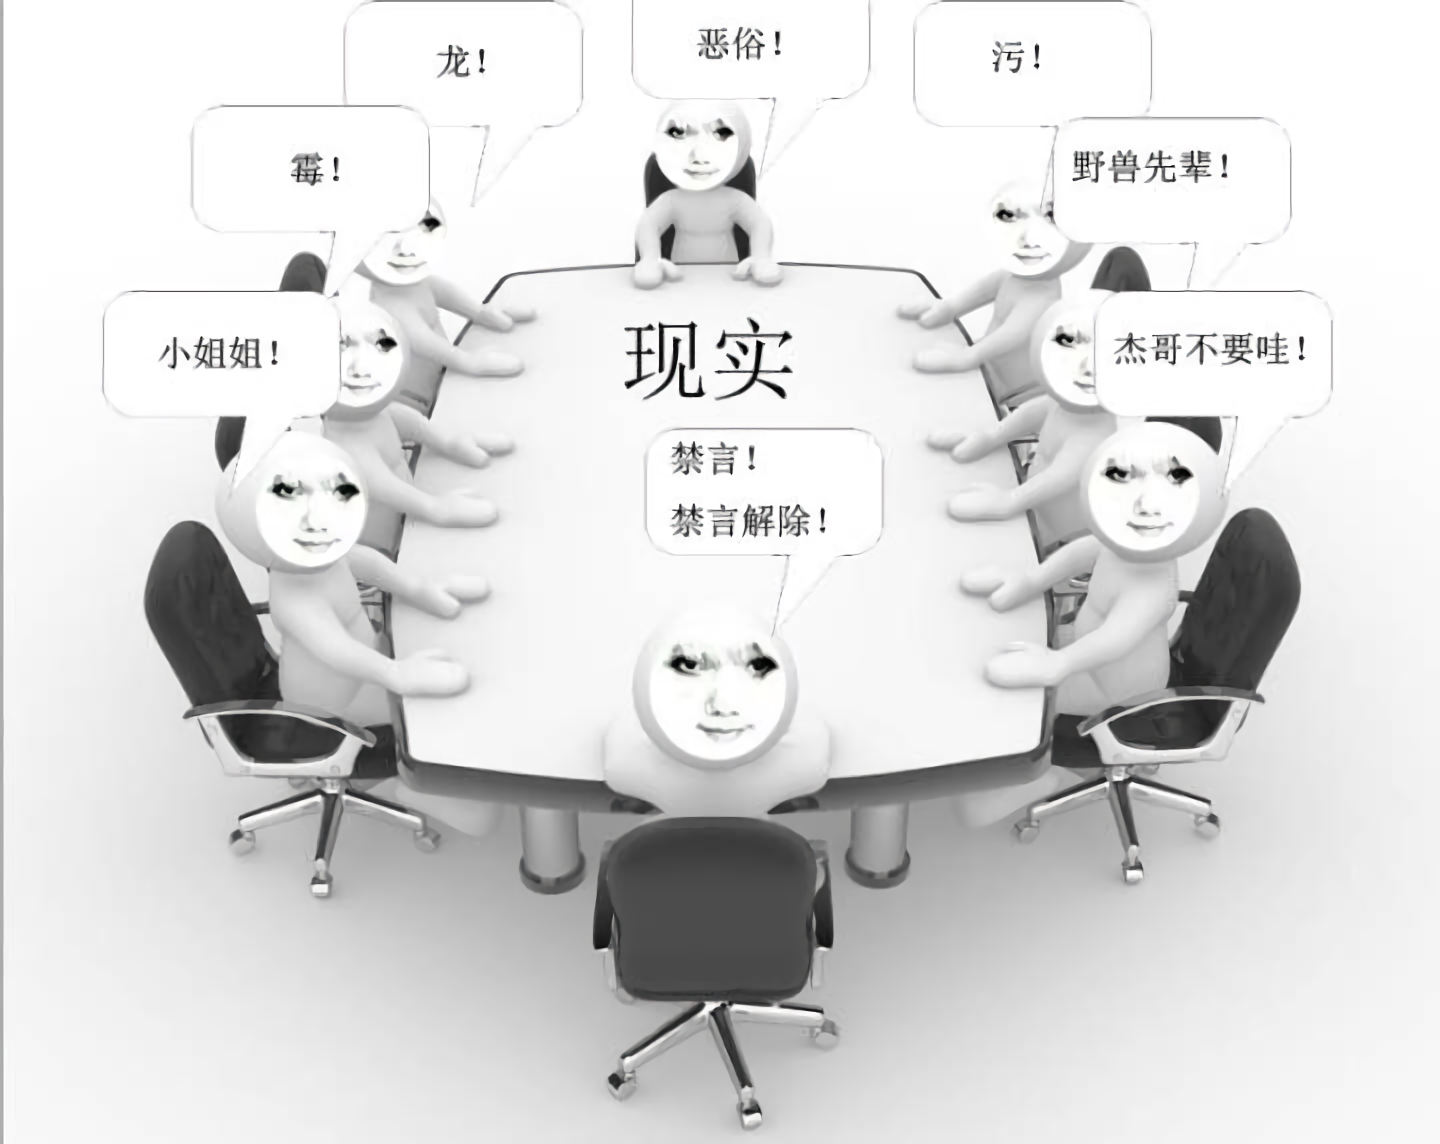dragon: (664, 639, 781, 744), (268, 473, 366, 559), (1103, 452, 1195, 541), (994, 199, 1071, 273), (664, 115, 741, 182), (337, 323, 399, 395), (1048, 330, 1103, 401), (379, 214, 443, 275)
